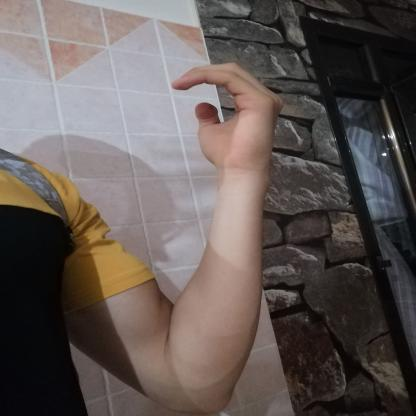JEEM: (156, 54, 298, 180)
